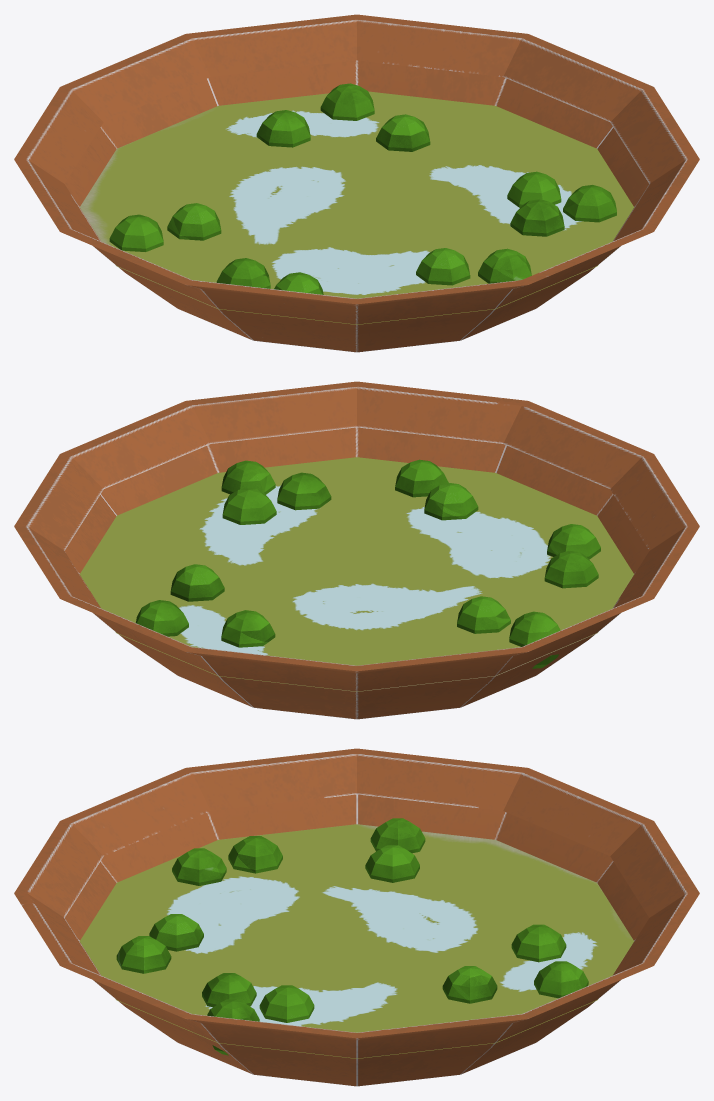
File: crema1.glb
3 renders of one model, top to bottom at view 1: azimuth 30°, elevation 25°; view 2: azimuth 150°, elevation 25°; view 3: azimuth 270°, elevation 25°, orthographic.
Parts seen in each view (by area): view 1: Plato3, polySurface42; view 2: Plato3, polySurface42; view 3: Plato3, polySurface42.
Part boxes in pixels (x1,y1,x2,y2): Plato3: (14, 14, 699, 352); polySurface42: (109, 83, 616, 294); Plato3: (14, 381, 699, 719); polySurface42: (136, 459, 600, 668); Plato3: (14, 748, 699, 1086); polySurface42: (116, 818, 588, 1055).
Size of the model in its own units: 2.3 by 0.5109 by 2.3.
3 materials, 3 textured.
